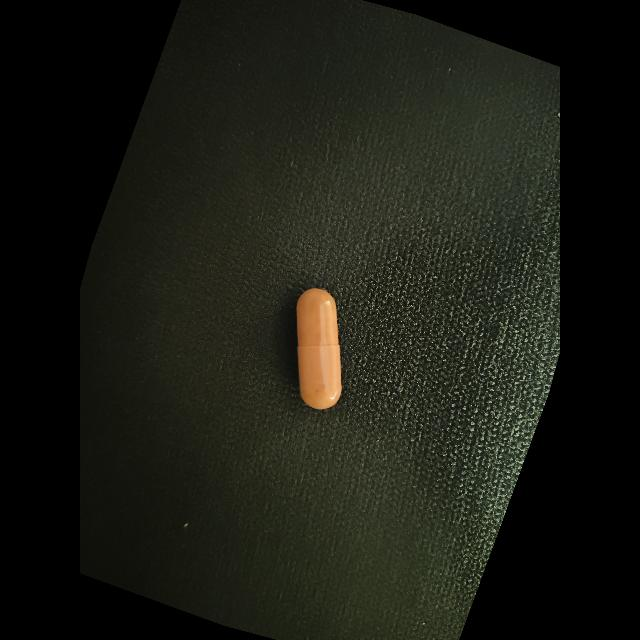Intact Capsule: (297, 288, 342, 409)
